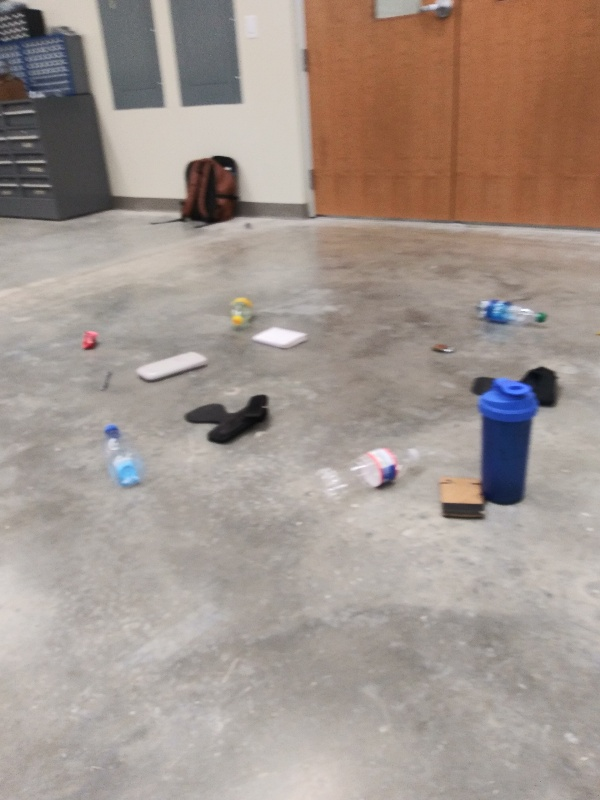bottle: (315, 443, 425, 506), (100, 422, 148, 491), (473, 297, 551, 331), (226, 292, 256, 332)
